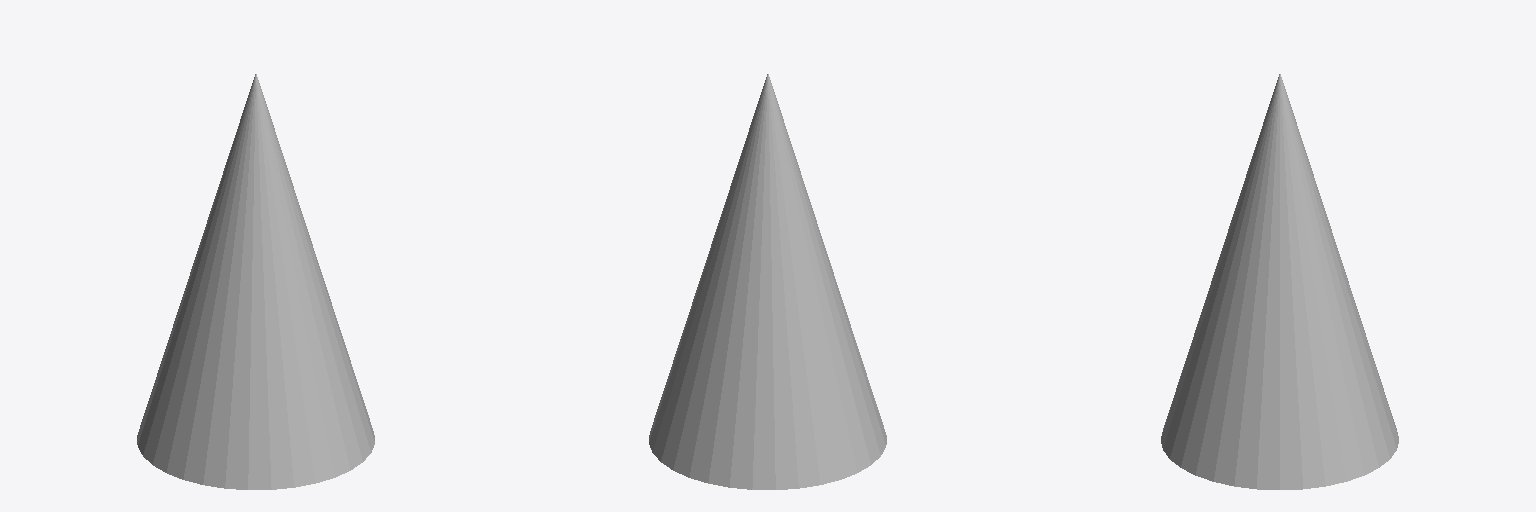
File: stinger.obj
3 views of the same model, side by side, from view 1: azimuth 30°, elevation 25°; view 2: azimuth 150°, elevation 25°; view 3: azimuth 270°, elevation 25° (orthographic).
Parts seen in each view (by area): view 1: Cone; view 2: Cone; view 3: Cone.
Boxes of the visible parts, x1,y1,x2,y2 form: Cone: [137, 74, 374, 489]; Cone: [649, 74, 886, 489]; Cone: [1161, 74, 1398, 489].
Size of the model in its own units: 0.5 by 0.85 by 0.5.